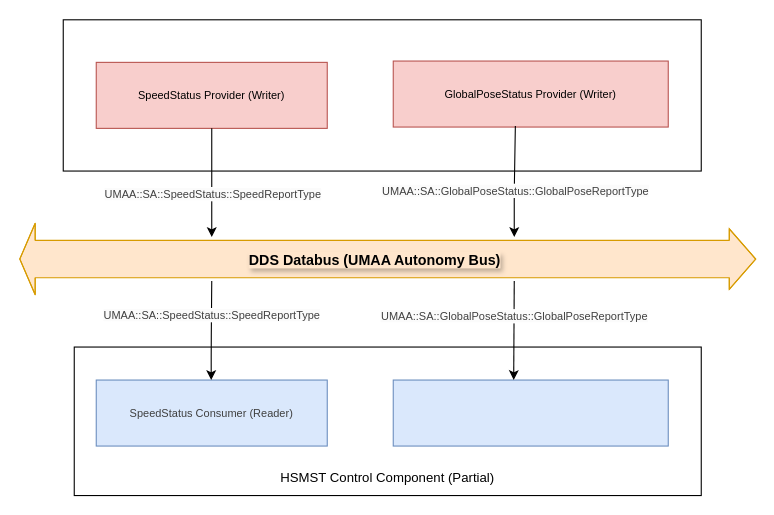
Image size: 774x515. Some labels were removed from this diagram. The shapes that lost their labels are listed below. From the top down, each one's box as (x1, y1, x2, y2) in pixels, then its label:
(62, 19, 701, 171): VectorNav Component
(392, 379, 668, 446): GlobalPoseStatus Consumer (Reader)
